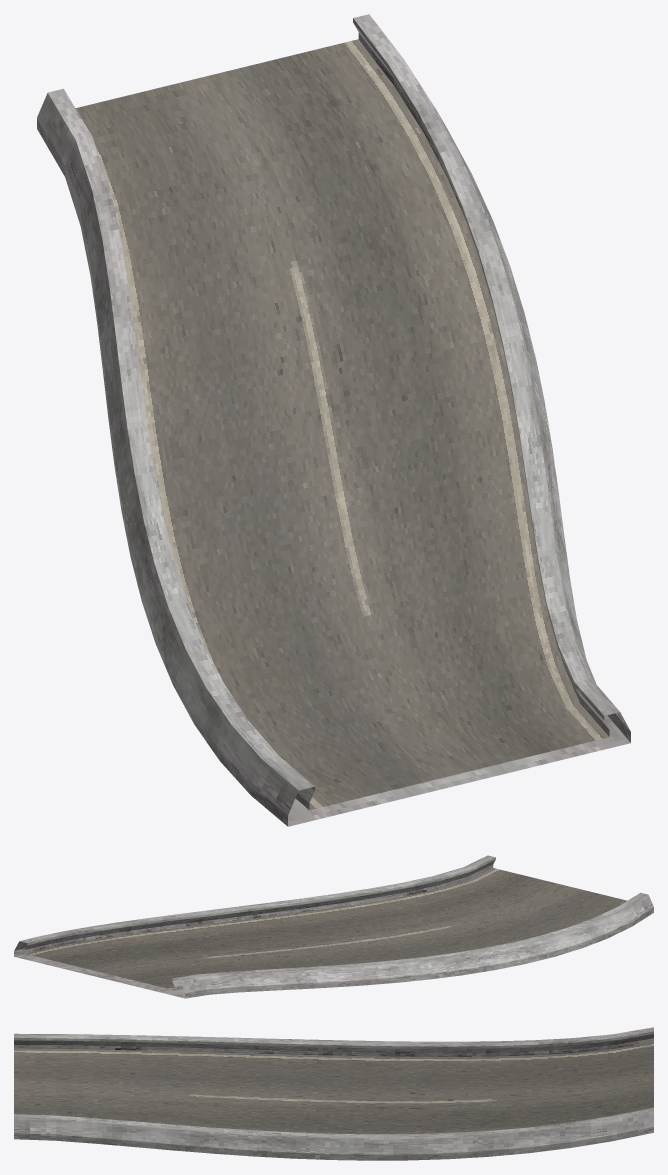
The model's file is road-Chicane-Flat-BiSlopeUp-Up2-Right1-Size3.glb.
3 views of the same model, one above another, from view 1: azimuth 30°, elevation 25°; view 2: azimuth 150°, elevation 25°; view 3: azimuth 270°, elevation 25° (orthographic). The views are drawn at different scales.
Visible parts, largest first — view 1: road-Chicane-Flat-BiSlopeUp-Up2-Right1-Size3; view 2: road-Chicane-Flat-BiSlopeUp-Up2-Right1-Size3; view 3: road-Chicane-Flat-BiSlopeUp-Up2-Right1-Size3.
Boxes of the visible parts, bbox=[...] form: road-Chicane-Flat-BiSlopeUp-Up2-Right1-Size3: bbox=[37, 14, 630, 826]; road-Chicane-Flat-BiSlopeUp-Up2-Right1-Size3: bbox=[14, 855, 653, 998]; road-Chicane-Flat-BiSlopeUp-Up2-Right1-Size3: bbox=[14, 1027, 653, 1160].
Bounding box in the file's own units: 2 × 0.5938 × 3.
Materials: 2 (2 with a texture image).
